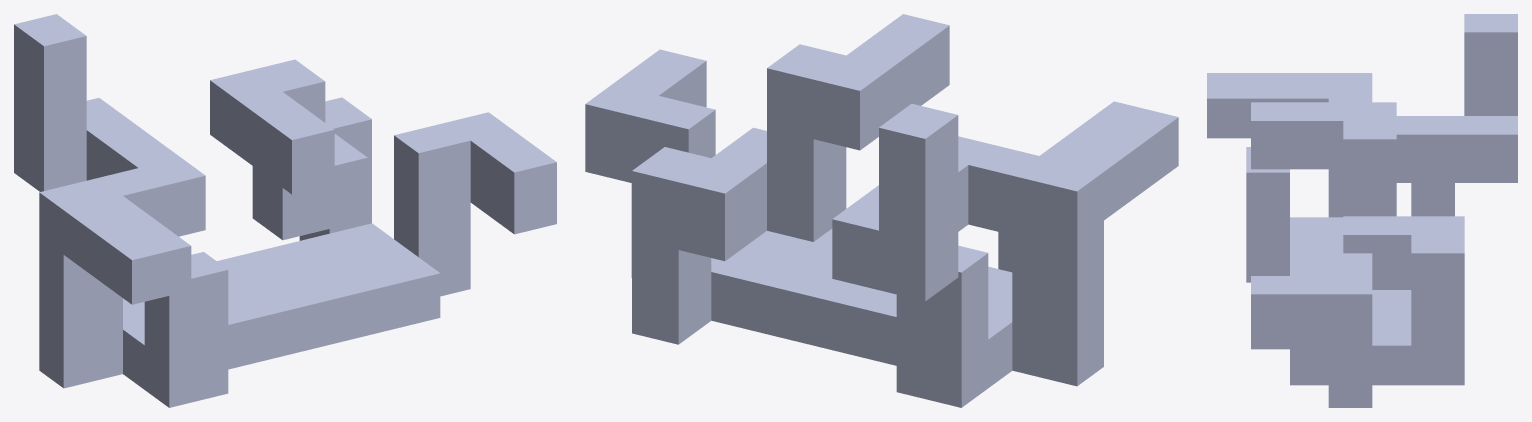
3 renders of one model, left to right at view 1: azimuth 30°, elevation 25°; view 2: azimuth 150°, elevation 25°; view 3: azimuth 270°, elevation 25°, orthographic. The views are drawn at different scales.
Parts seen in each view (by area): view 1: mesh_1_Long-8; view 2: mesh_1_Long-8; view 3: mesh_1_Long-8.
Part boxes in pixels (left/top/right/bottom): mesh_1_Long-8: left=14, top=14, right=556, bottom=407; mesh_1_Long-8: left=585, top=14, right=1178, bottom=407; mesh_1_Long-8: left=1207, top=14, right=1517, bottom=407.
Size of the model in its own units: 0.19 by 0.11 by 0.128.
